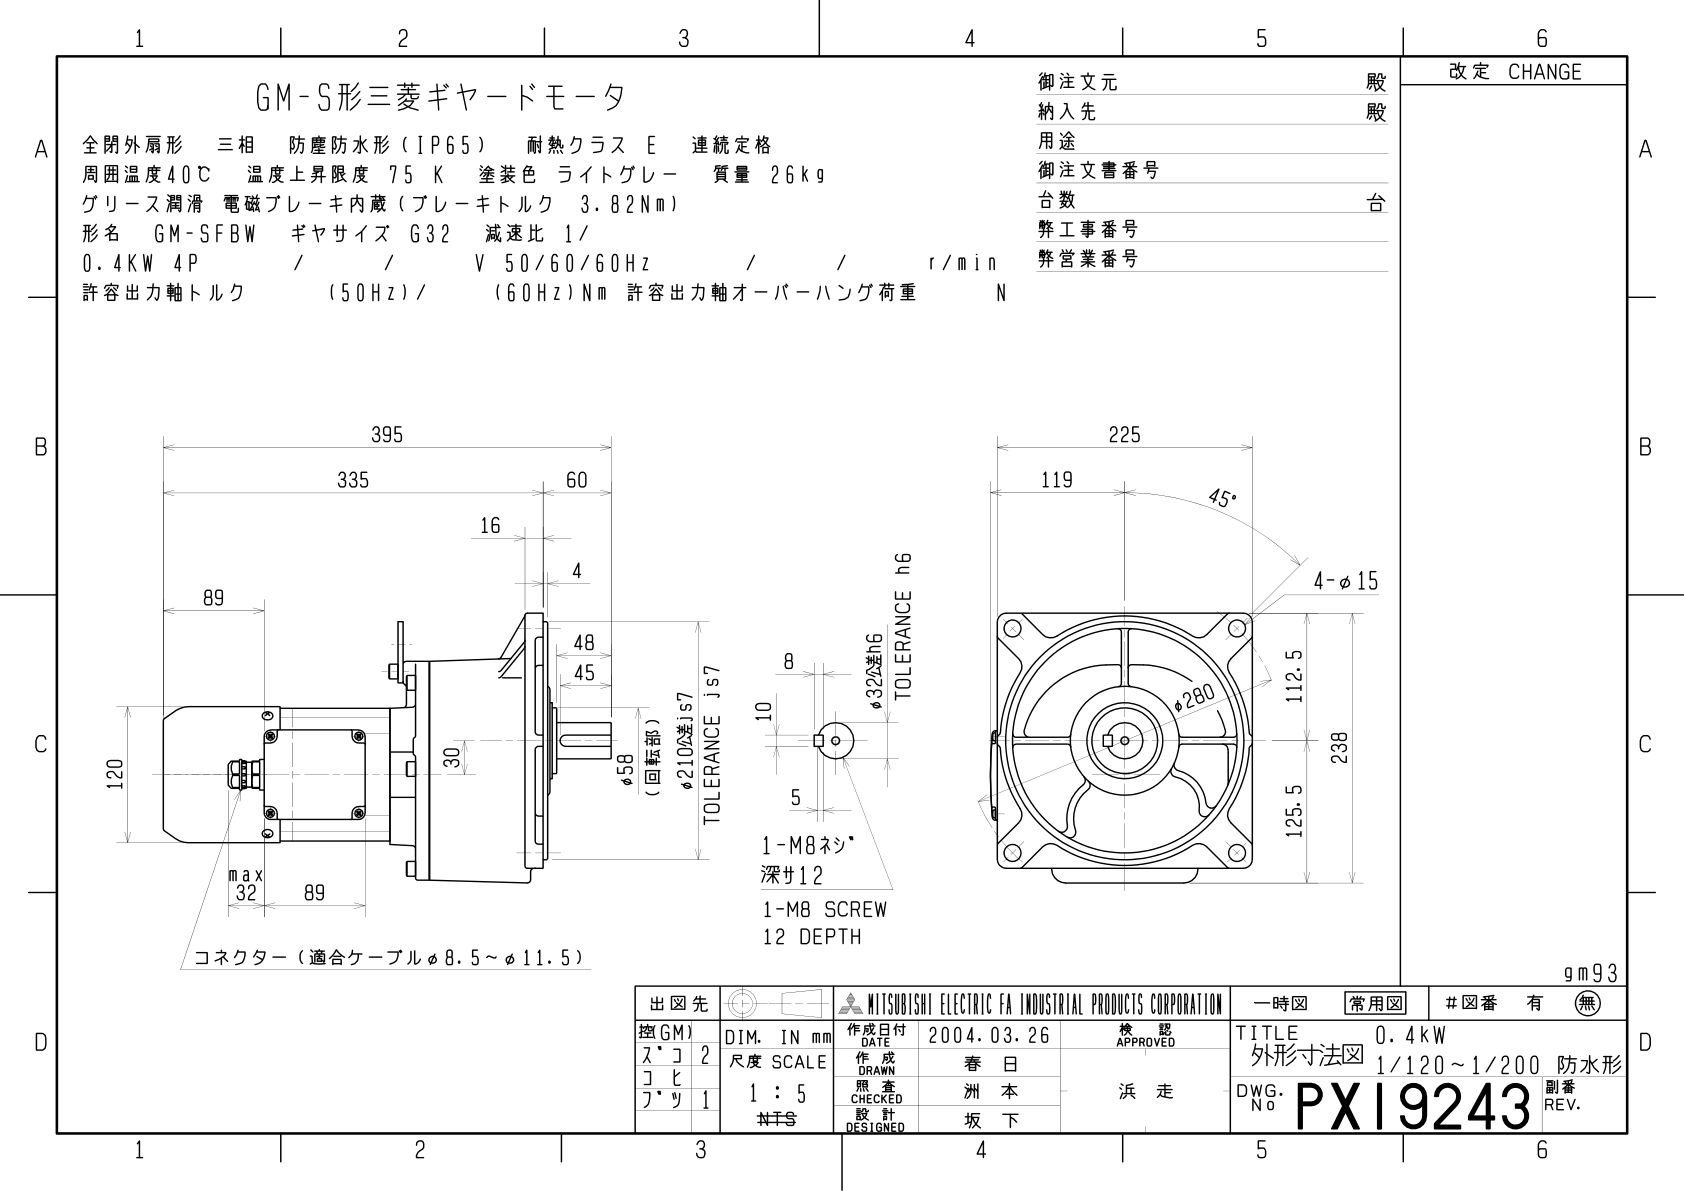GM_S_IP65＿三相_フランジ: (82, 363, 1395, 973)
